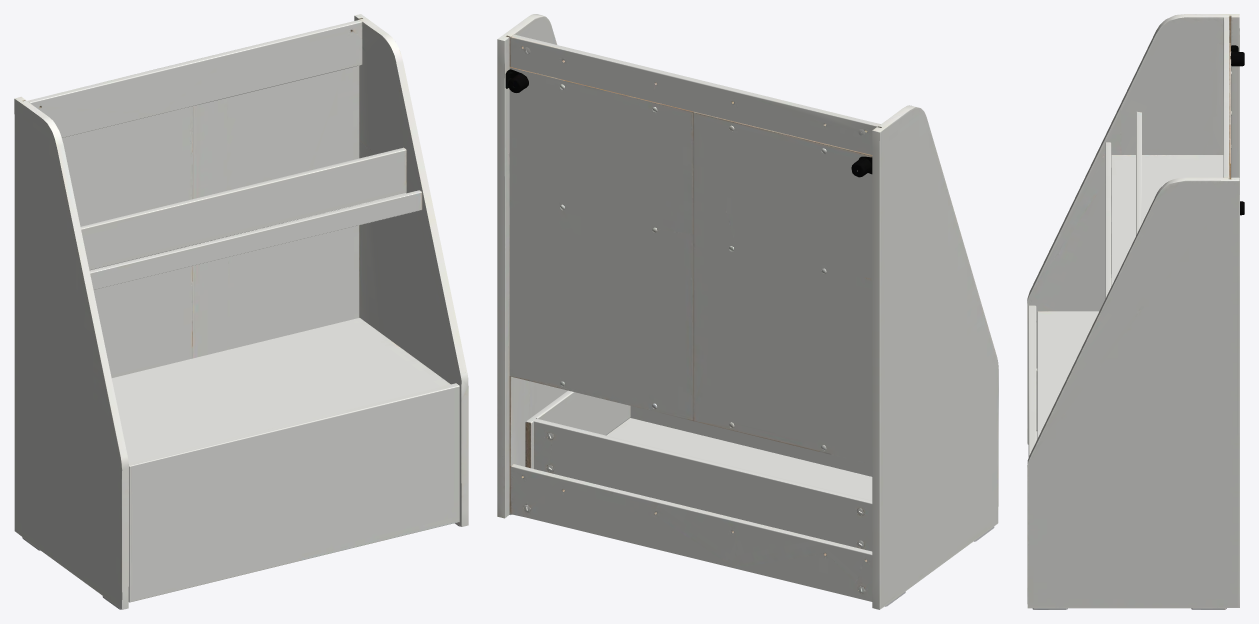
3 views of the same model, side by side, from view 1: azimuth 30°, elevation 25°; view 2: azimuth 150°, elevation 25°; view 3: azimuth 270°, elevation 25° (orthographic). The views are drawn at different scales.
Visible parts, largest first — view 1: ASY_ART_40598101_S01_NV01, ASY_LPT01_40598101_S01_NV01; view 2: ASY_ART_40598101_S01_NV01, ASY_LPT01_40598101_S01_NV01; view 3: ASY_ART_40598101_S01_NV01, ASY_LPT01_40598101_S01_NV01.
Boxes of the visible parts, x1=… form: ASY_ART_40598101_S01_NV01: x1=14, y1=14, x2=468, y2=609; ASY_LPT01_40598101_S01_NV01: x1=128, y1=383, x2=459, y2=602; ASY_ART_40598101_S01_NV01: x1=497, y1=14, x2=998, y2=609; ASY_LPT01_40598101_S01_NV01: x1=525, y1=390, x2=872, y2=551; ASY_ART_40598101_S01_NV01: x1=1027, y1=14, x2=1244, y2=609; ASY_LPT01_40598101_S01_NV01: x1=1028, y1=305, x2=1037, y2=456.
Size of the model in its own units: 0.796 by 0.9551 by 0.4381.
6 materials, 4 textured.
